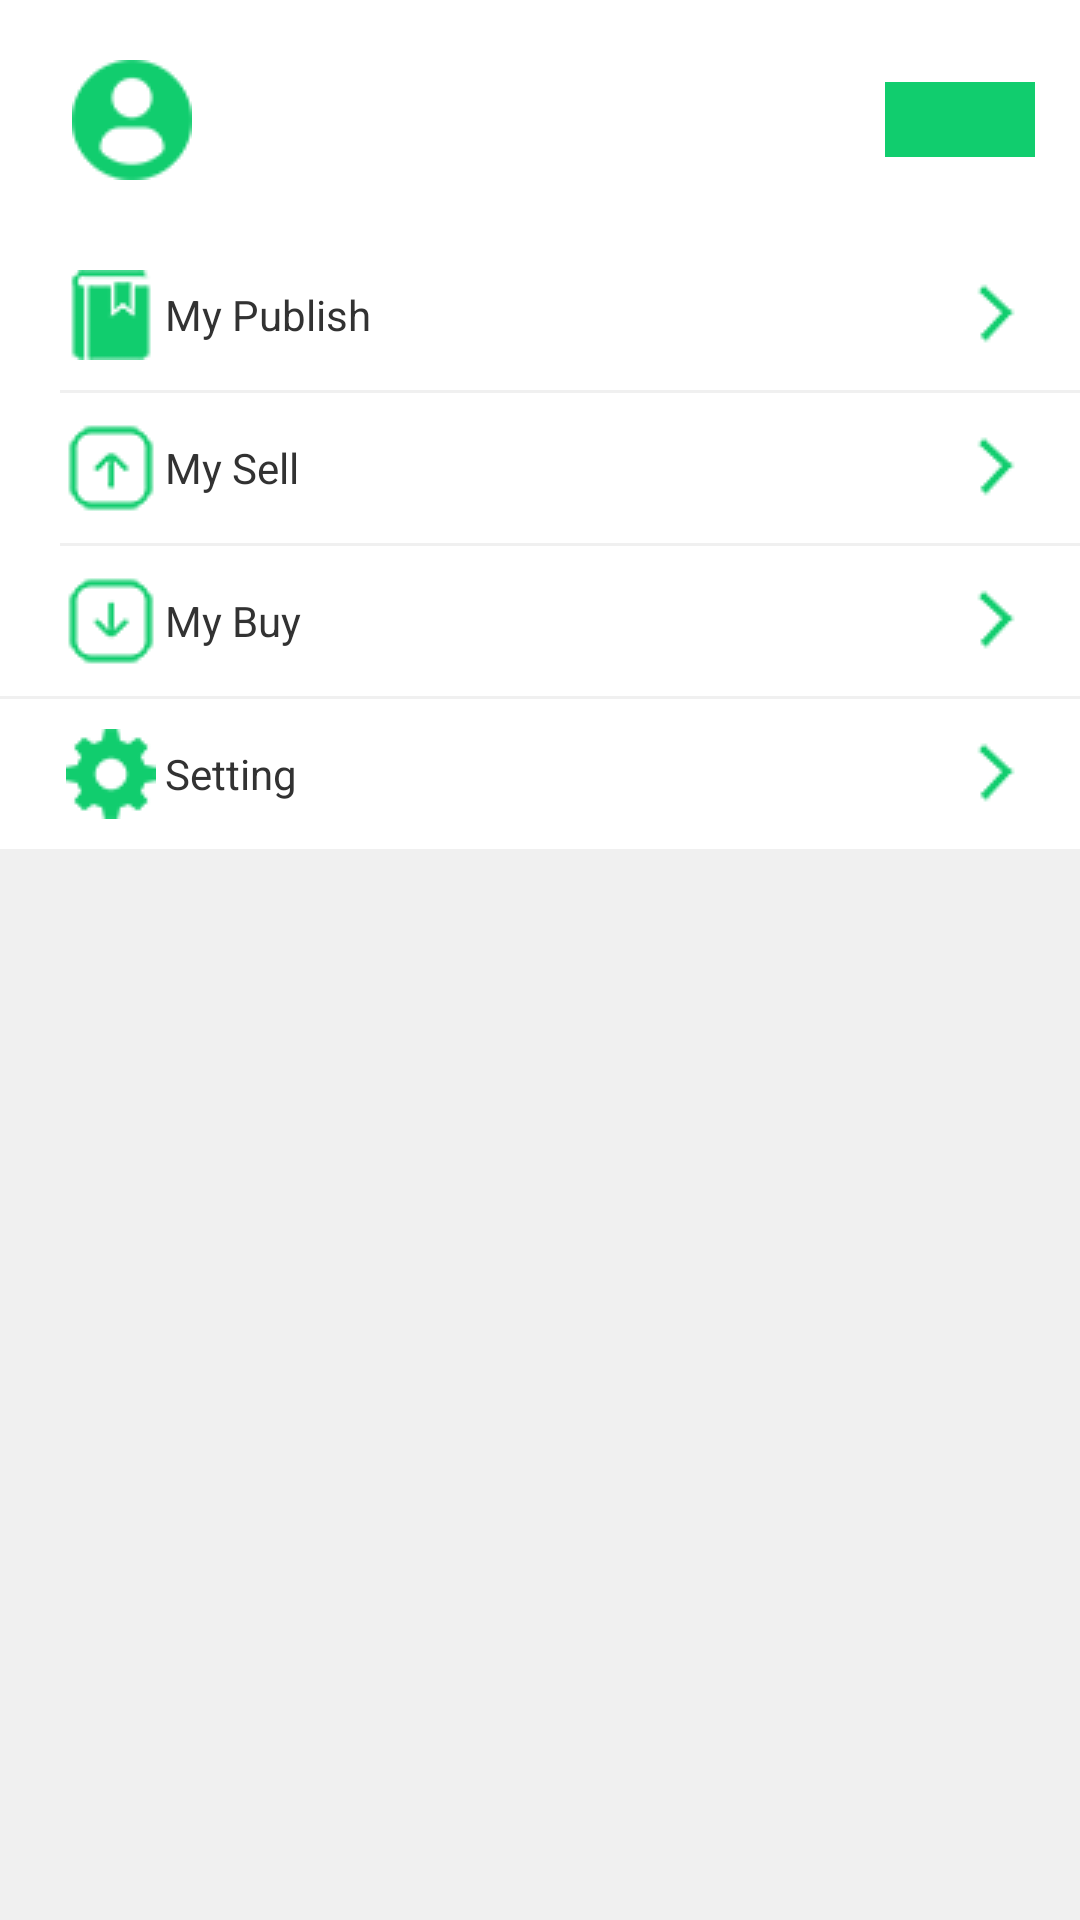

Locate icon controls on the screen. Image size 1080px x 1920px, boxes as (x1, y1, x2, y2).
arr: (978, 284, 1015, 343), (978, 437, 1015, 496), (978, 590, 1015, 649), (978, 743, 1015, 802)
profile: (72, 60, 192, 180)
